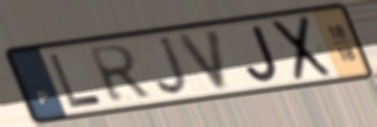J: (154, 33, 192, 98), (243, 23, 282, 84)
L: (45, 52, 105, 110)
R: (85, 42, 154, 105)
V: (174, 26, 229, 93)
X: (269, 13, 336, 84)
